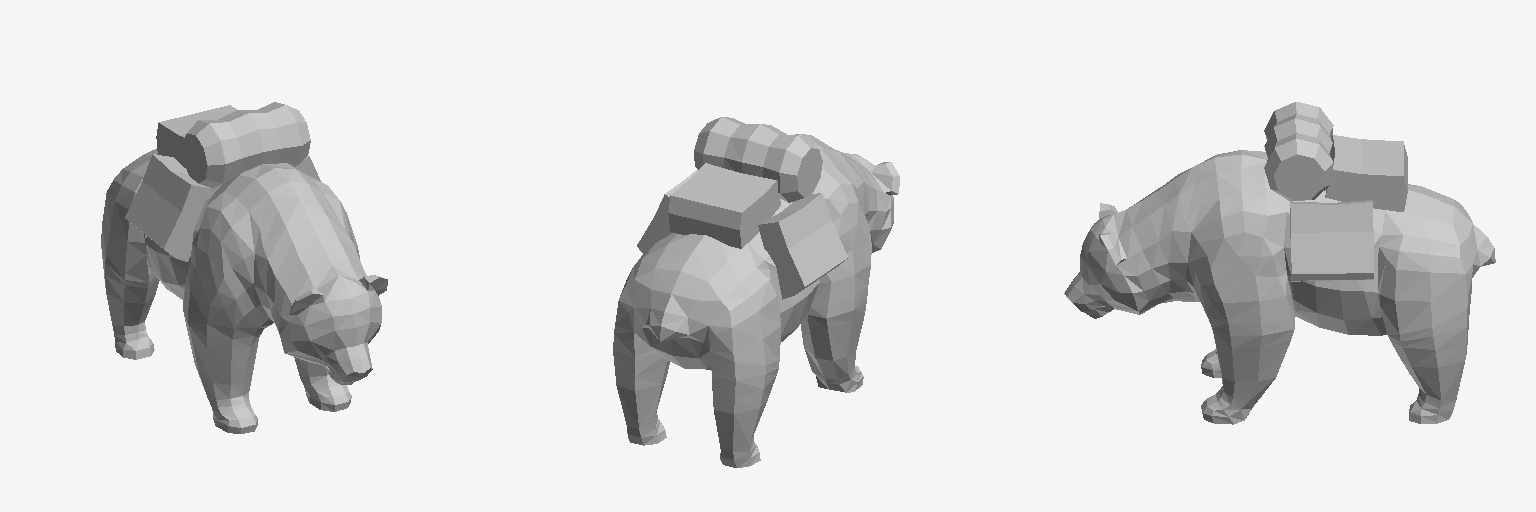
File: panda.obj
The picture shows the model from 3 angles: view 1: azimuth 30°, elevation 25°; view 2: azimuth 150°, elevation 25°; view 3: azimuth 270°, elevation 25°; orthographic projection.
Visible parts, largest first — view 1: pet_panda_mat; view 2: pet_panda_mat; view 3: pet_panda_mat.
Boxes of the visible parts, x1=… form: pet_panda_mat: x1=101, y1=102, x2=387, y2=433; pet_panda_mat: x1=613, y1=117, x2=899, y2=467; pet_panda_mat: x1=1064, y1=102, x2=1495, y2=424.
Bounding box in the file's own units: 1.09 × 1.66 × 2.36.